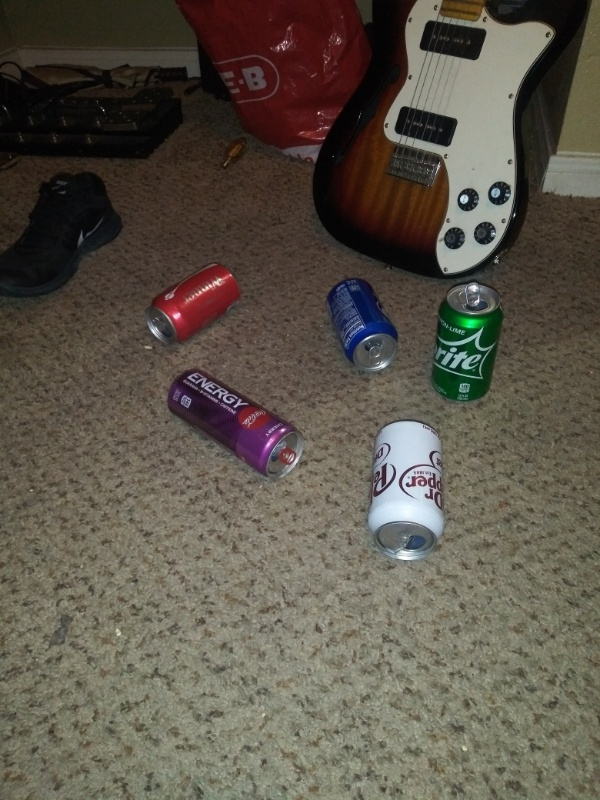can: (163, 367, 308, 481), (365, 416, 450, 563), (426, 279, 504, 407), (145, 258, 243, 350), (317, 275, 404, 373)
